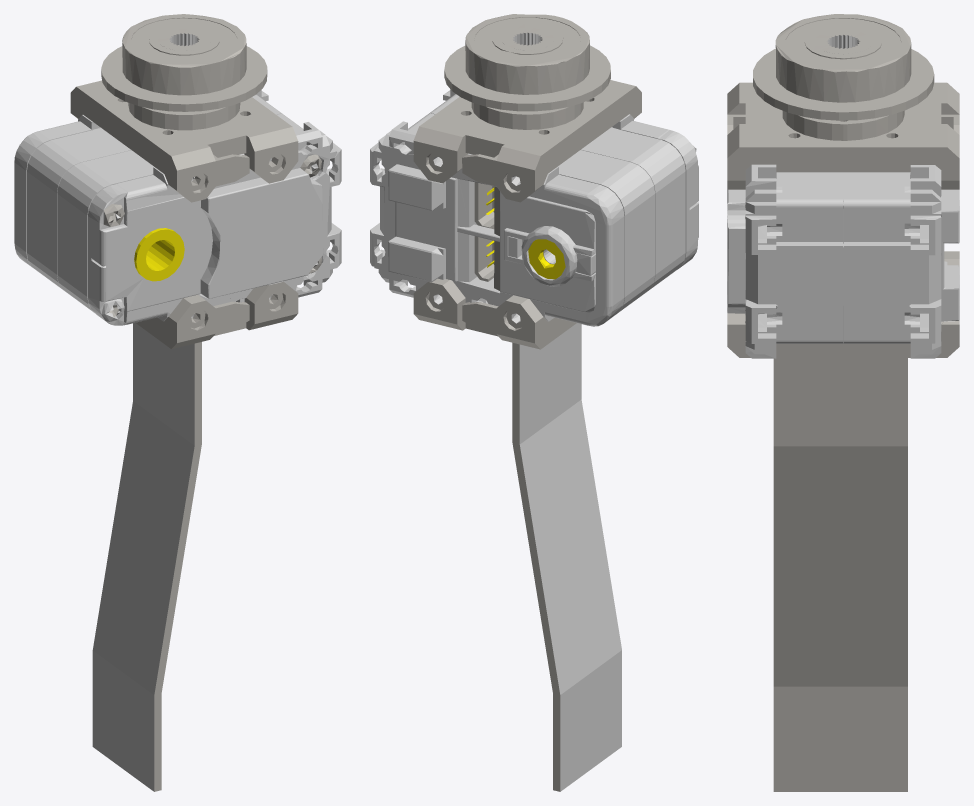
The model's file is yaw.obj.
3 views of the same model, side by side, from view 1: azimuth 30°, elevation 25°; view 2: azimuth 150°, elevation 25°; view 3: azimuth 270°, elevation 25° (orthographic). The views are drawn at different scales.
Parts seen in each view (by area): view 1: Object.1; view 2: Object.1; view 3: Object.1.
Part boxes in pixels (left/top/right/bottom): Object.1: left=14, top=14, right=341, bottom=791; Object.1: left=370, top=14, right=698, bottom=791; Object.1: left=727, top=14, right=959, bottom=791.
Bounding box in the file's own units: 50 × 141 × 38.01.
